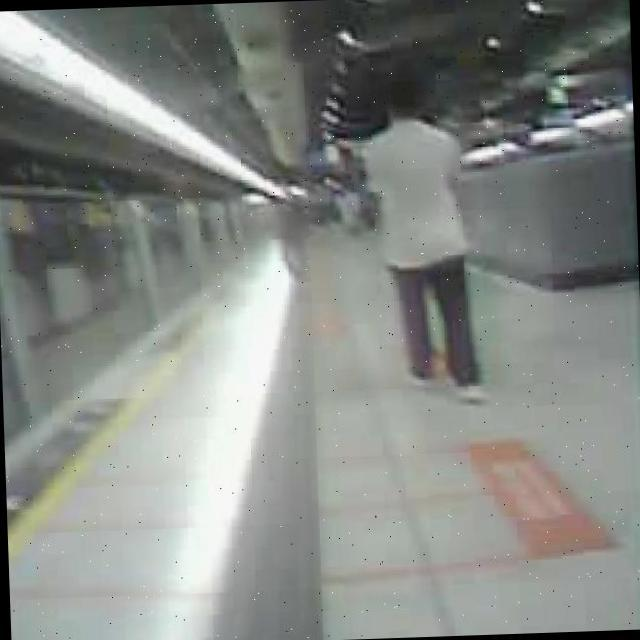person: (363, 80, 489, 406)
